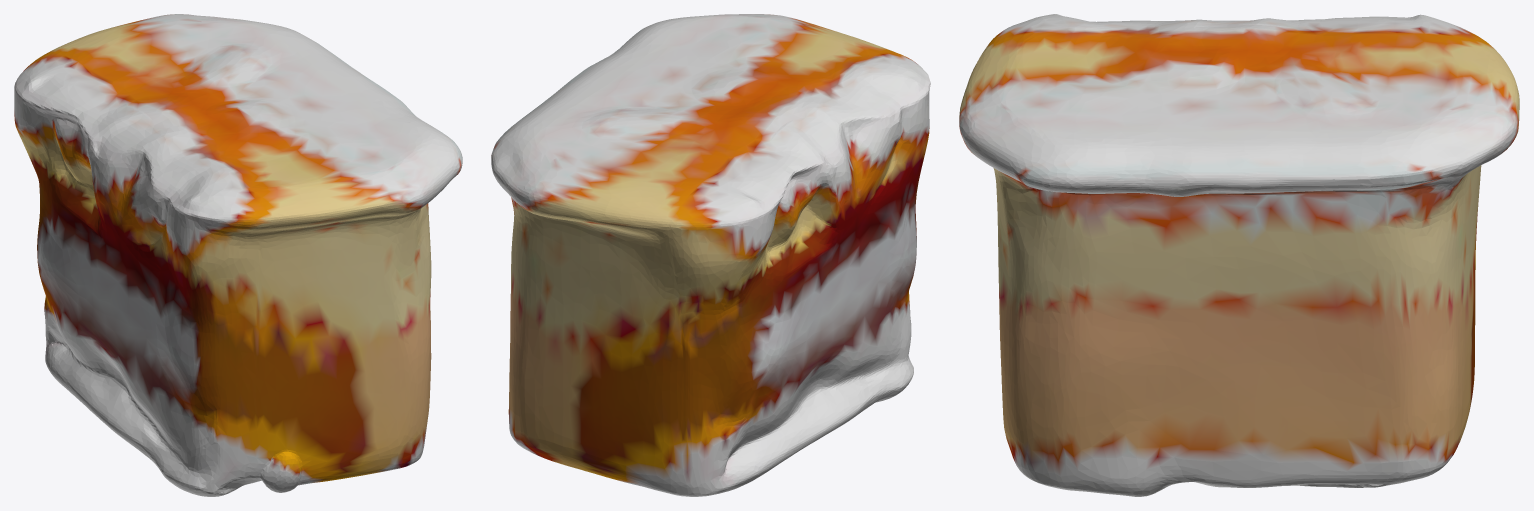
The model's file is loaf.glb.
3 views of the same model, side by side, from view 1: azimuth 30°, elevation 25°; view 2: azimuth 150°, elevation 25°; view 3: azimuth 270°, elevation 25° (orthographic). The views are drawn at different scales.
Visible parts, largest first — view 1: geometry_0; view 2: geometry_0; view 3: geometry_0.
Boxes of the visible parts, left/top/right/bottom form: geometry_0: left=14, top=14, right=462, bottom=496; geometry_0: left=491, top=14, right=930, bottom=496; geometry_0: left=959, top=14, right=1519, bottom=496.
Bounding box in the file's own units: 0.6488 × 0.7188 × 0.9769.
